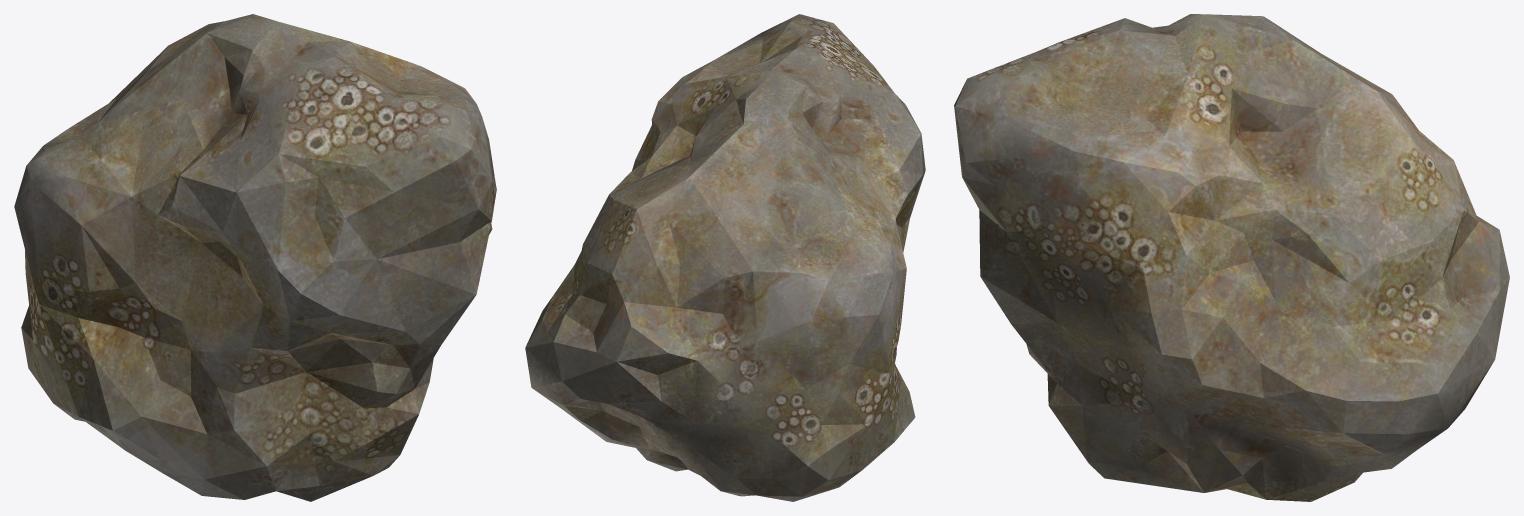
File: bg_lut_crseasho_rock01a_sm_ksh.FBX
The picture shows the model from 3 angles, left to right: view 1: azimuth 30°, elevation 25°; view 2: azimuth 150°, elevation 25°; view 3: azimuth 270°, elevation 25°; orthographic projection. The views are drawn at different scales.
Parts seen in each view (by area): view 1: bg_lut_crseasho_rock01a_sm_ksh; view 2: bg_lut_crseasho_rock01a_sm_ksh; view 3: bg_lut_crseasho_rock01a_sm_ksh.
Boxes of the visible parts, x1,y1,x2,y2 form: bg_lut_crseasho_rock01a_sm_ksh: (14, 14, 496, 501); bg_lut_crseasho_rock01a_sm_ksh: (525, 14, 925, 501); bg_lut_crseasho_rock01a_sm_ksh: (954, 14, 1509, 501).
Bounding box in the file's own units: 179 × 198 × 213.
